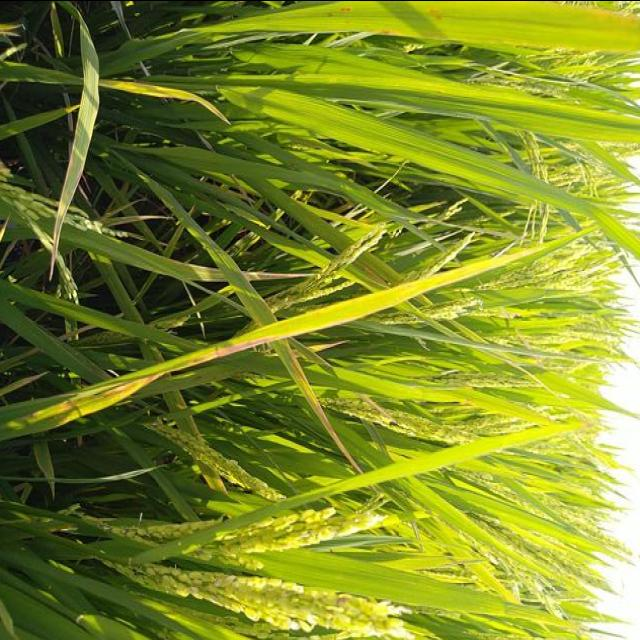Leaf Blight: (36, 232, 580, 431), (49, 22, 99, 279), (98, 77, 231, 124)
Leaf Streak: (276, 338, 362, 473), (242, 270, 320, 281), (425, 3, 446, 26), (332, 3, 355, 12), (375, 26, 400, 34)
